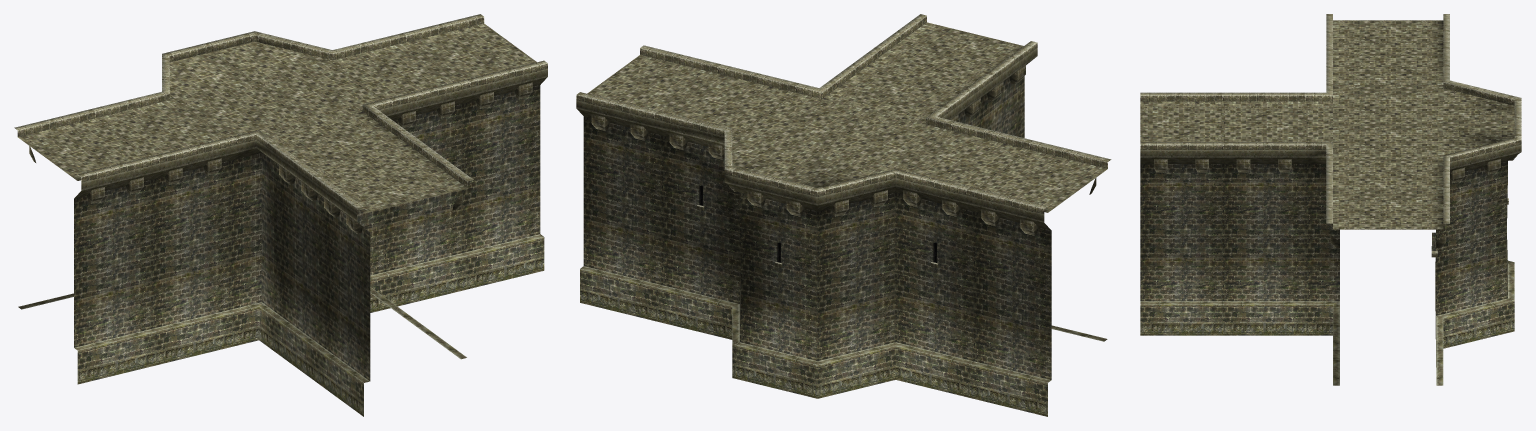
The model's file is OZ_30_kn_castle02B.glb.
3 renders of one model, left to right at view 1: azimuth 30°, elevation 25°; view 2: azimuth 150°, elevation 25°; view 3: azimuth 270°, elevation 25°, orthographic. The views are drawn at different scales.
Parts seen in each view (by area): view 1: OM_30_kn_castle02B; view 2: OM_30_kn_castle02B; view 3: OM_30_kn_castle02B.
Boxes of the visible parts, <box> form: OM_30_kn_castle02B: <box>14,14,547,416</box>; OM_30_kn_castle02B: <box>576,14,1111,416</box>; OM_30_kn_castle02B: <box>1140,14,1521,385</box>.
Size of the model in its own units: 36 by 15.5 by 27.7.
3 materials, 3 textured.
